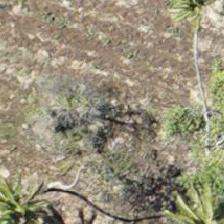coconut_tree: (0, 164, 57, 223), (171, 172, 223, 223)
